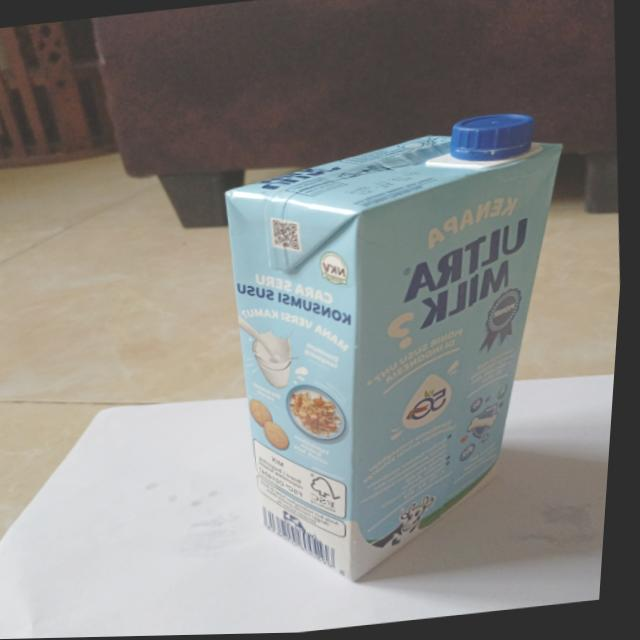indomie-mie-kocok-bandung: (195, 104, 604, 598)
